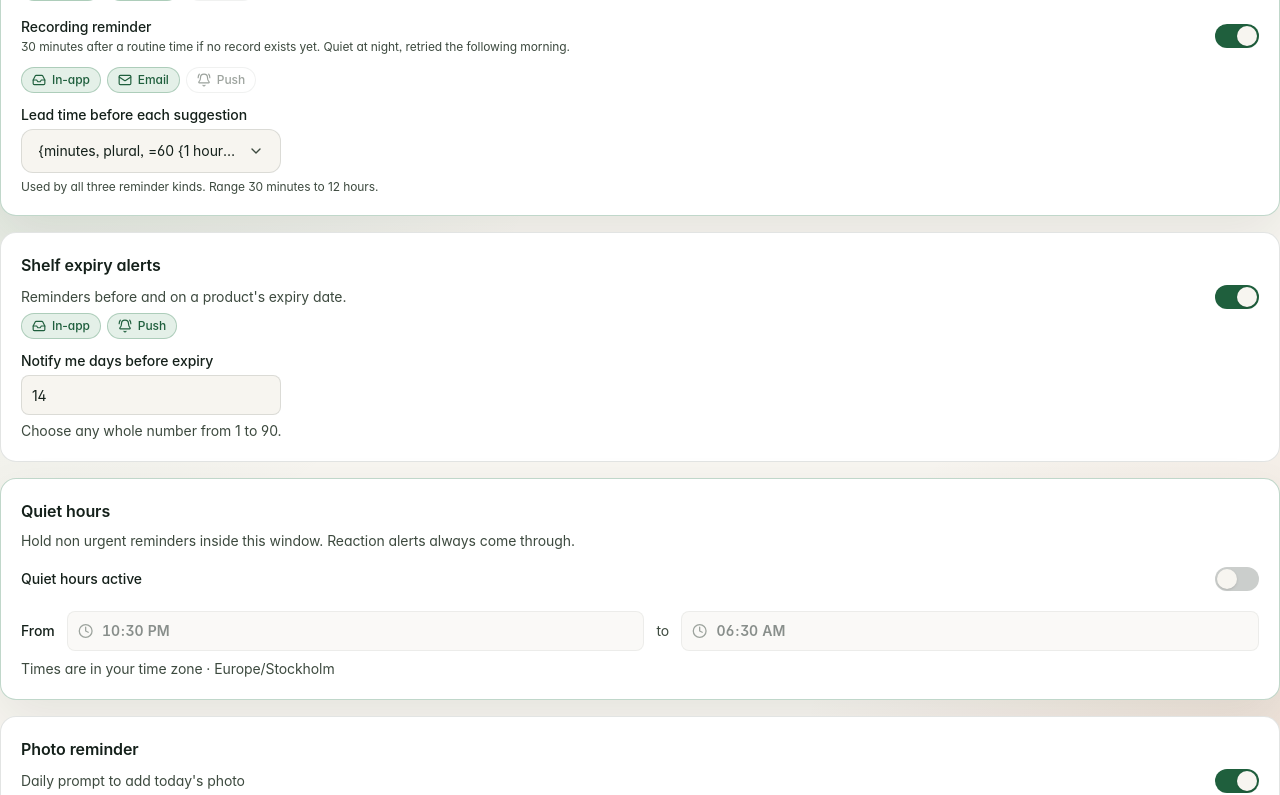
Test: NotificationsTab › rolls back the product expiry notice days input when saving fails
The width and height of the screenshot is (1280, 795).
(page scrolled)
Replace the text in the number field labelled "Notify me days before expiry" with "30": (151, 395) [21,375,281,415]
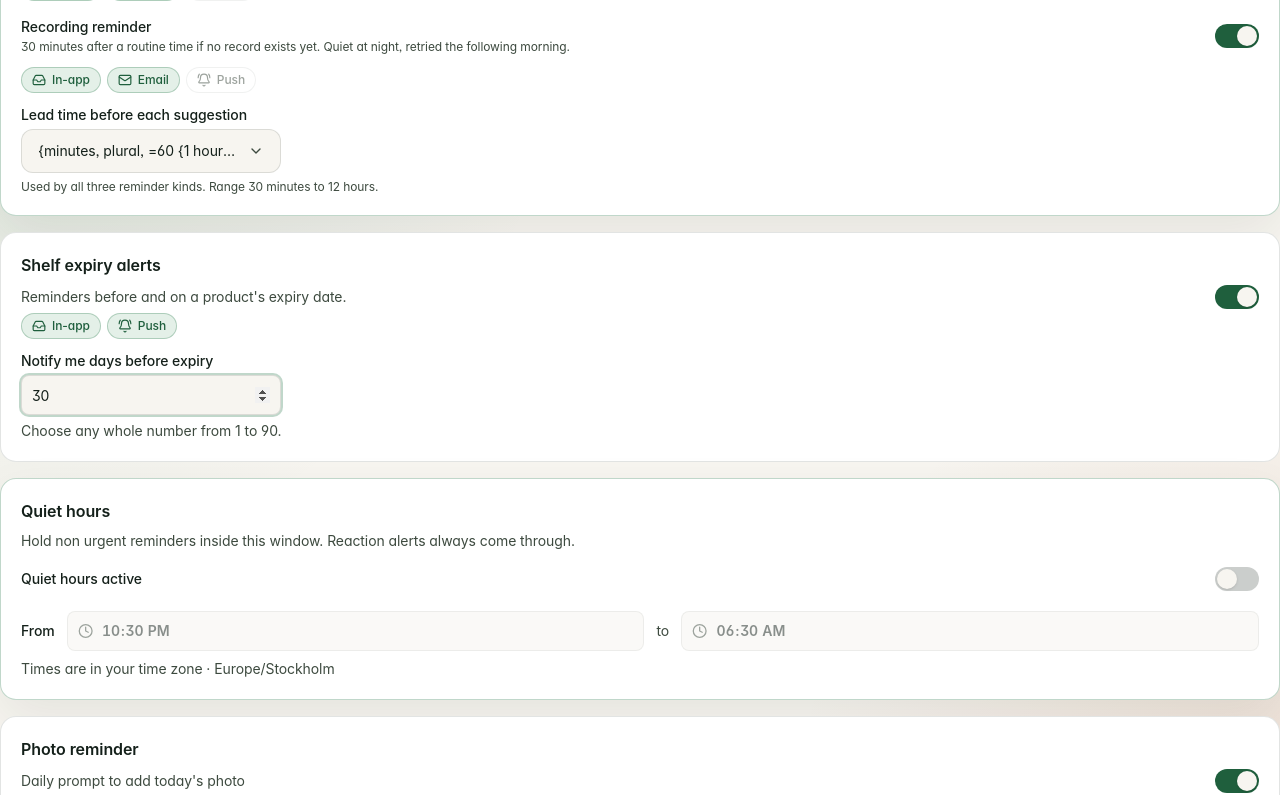
Press Tab
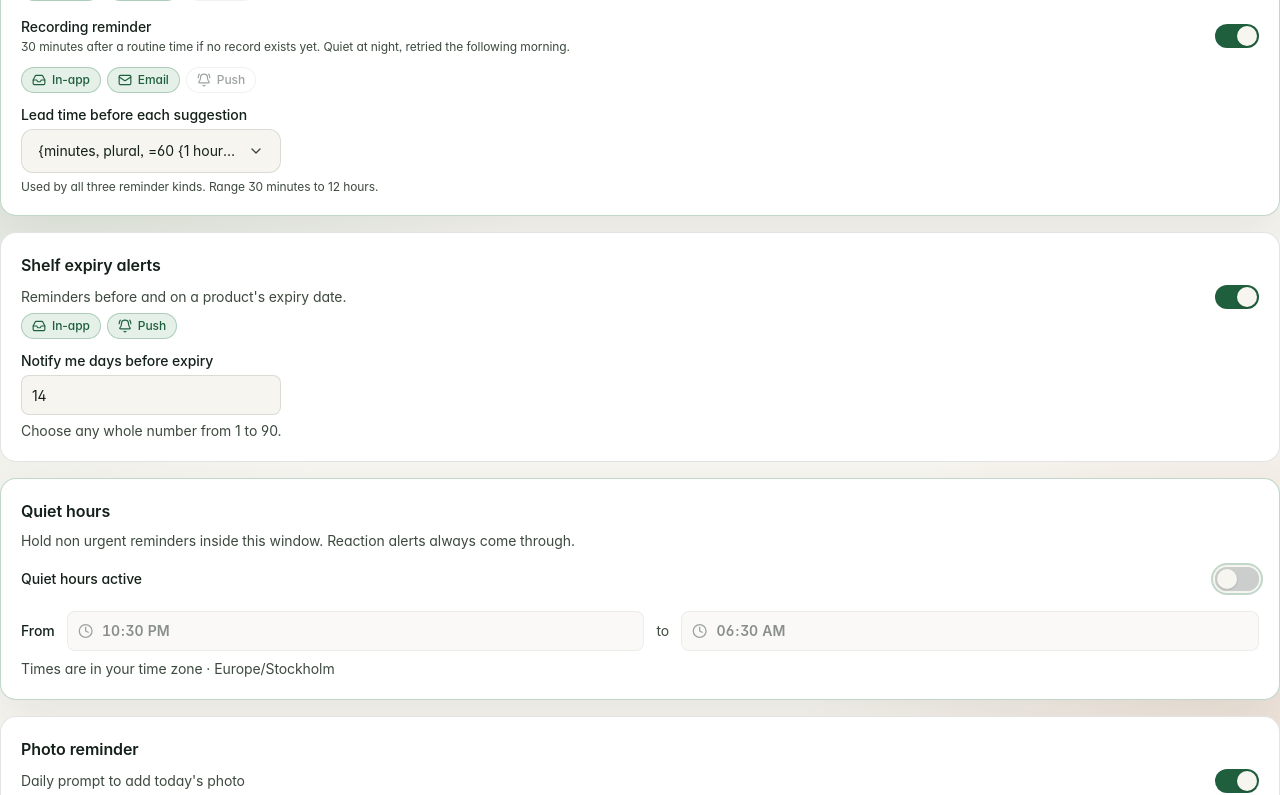
Check: the number field labelled "Notify me days before expiry" holds "14", box [21,375,281,415]
